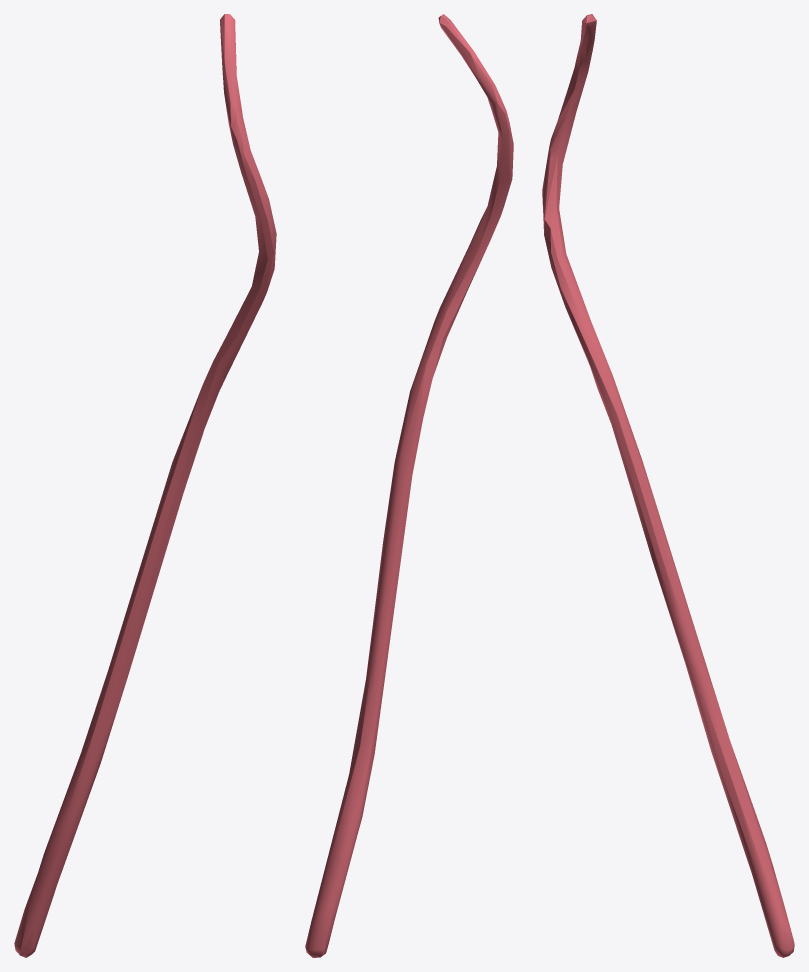
Rendered from fma51393_fj5176.glb.
3 renders of one model, left to right at view 1: azimuth 90°, elevation 25°; view 2: azimuth 150°, elevation 25°; view 3: azimuth 270°, elevation 25°, orthographic. The views are drawn at different scales.
Parts seen in each view (by area): view 1: FMA51393_FJ5176; view 2: FMA51393_FJ5176; view 3: FMA51393_FJ5176.
Part boxes in pixels (<box>): FMA51393_FJ5176: <box>14,14,276,957</box>; FMA51393_FJ5176: <box>305,14,513,957</box>; FMA51393_FJ5176: <box>542,14,794,957</box>.
Size of the model in its own units: 0.0042 by 0.0342 by 0.00846.
